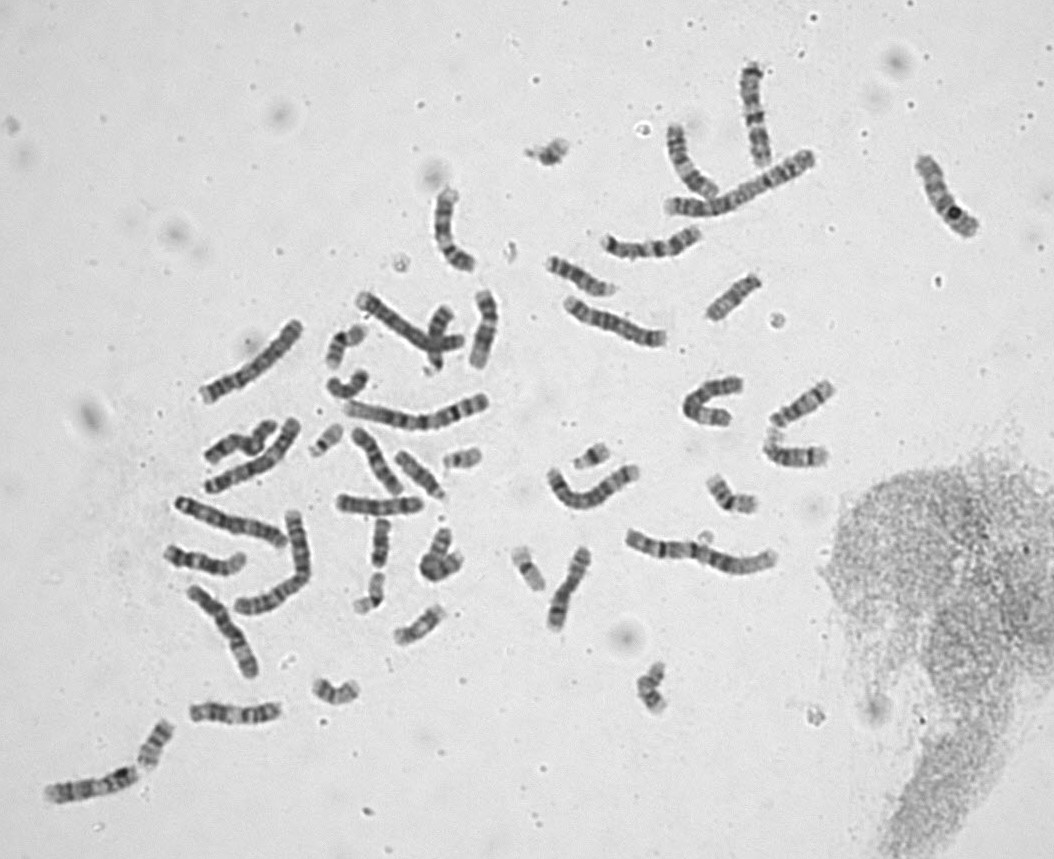chromosomes: (661, 146, 820, 224), (194, 316, 307, 405), (233, 507, 315, 620), (341, 285, 469, 355), (197, 412, 307, 492), (622, 527, 782, 580), (183, 586, 264, 689), (162, 492, 293, 553), (910, 149, 985, 247), (562, 292, 671, 358), (340, 390, 494, 433), (730, 62, 782, 169), (26, 764, 148, 808), (538, 543, 596, 635), (427, 188, 485, 277), (663, 120, 723, 204), (543, 461, 642, 511), (701, 267, 769, 338), (595, 220, 707, 262), (761, 373, 839, 433), (348, 424, 406, 499), (191, 414, 281, 462), (679, 373, 751, 433), (540, 253, 621, 299), (391, 450, 457, 503), (414, 524, 468, 588), (500, 535, 551, 600), (467, 284, 501, 380), (320, 321, 376, 378), (384, 603, 456, 647), (184, 700, 285, 731), (161, 545, 253, 579), (422, 300, 459, 384), (129, 710, 176, 773), (703, 473, 766, 518), (762, 436, 830, 475), (632, 659, 677, 716), (328, 494, 428, 519), (519, 136, 573, 175), (318, 367, 370, 405), (349, 571, 389, 618), (302, 421, 348, 460), (309, 672, 360, 707), (368, 516, 394, 571), (435, 445, 484, 474), (568, 442, 615, 472)
